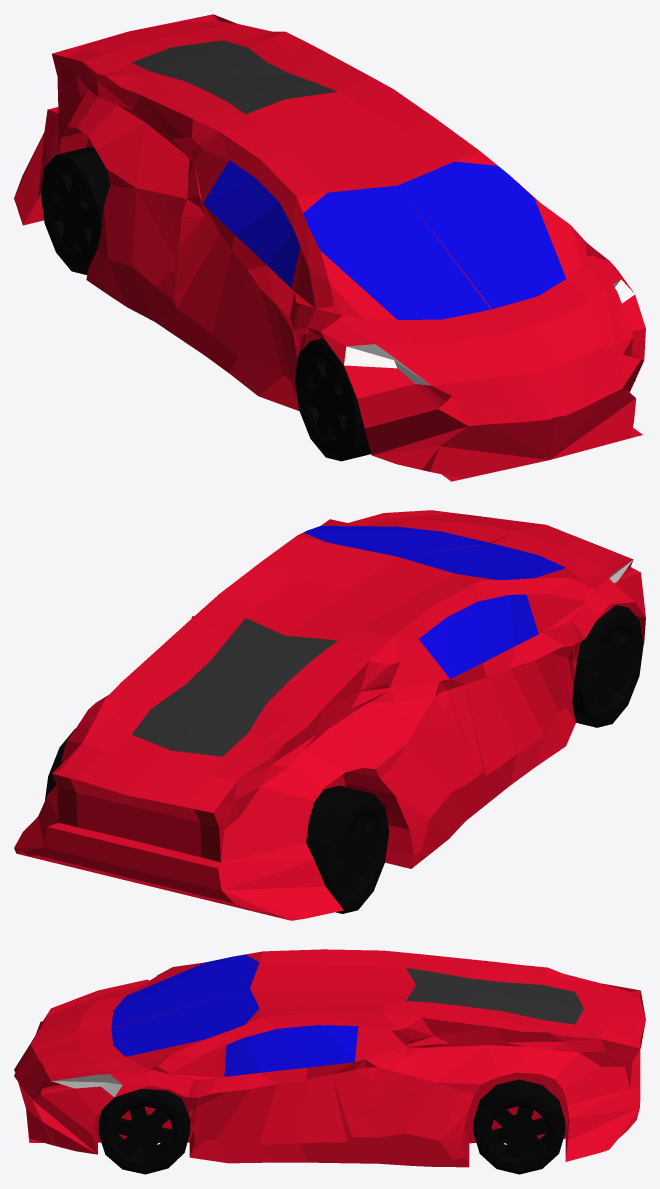
The model's file is Aventador.glb.
3 views of the same model, one above another, from view 1: azimuth 30°, elevation 25°; view 2: azimuth 150°, elevation 25°; view 3: azimuth 270°, elevation 25° (orthographic). The views are drawn at different scales.
Visible parts, largest first — view 1: Car, Windscreen, Engine Cover, Rear Offside Wheel, Front Offside Wheel, Side Windows, Front Lights; view 2: Car, Engine Cover, Rear Offside Wheel, Windscreen, Front Offside Wheel, Side Windows, Rear Lights; view 3: Car, Windscreen, Rear Nearside Wheel, Front Nearside Wheel, Engine Cover, Side Windows, Front Lights.
Part boxes in pixels (<box>): Car: <box>14,14,645,481</box>; Windscreen: <box>303,161,566,319</box>; Engine Cover: <box>132,40,337,114</box>; Rear Offside Wheel: <box>40,146,110,274</box>; Front Offside Wheel: <box>295,338,371,461</box>; Side Windows: <box>203,160,300,287</box>; Front Lights: <box>344,279,634,385</box>; Car: <box>14,510,645,920</box>; Engine Cover: <box>131,618,337,756</box>; Rear Offside Wheel: <box>306,785,389,913</box>; Windscreen: <box>303,526,565,580</box>; Front Offside Wheel: <box>572,604,643,727</box>; Side Windows: <box>419,594,538,678</box>; Rear Lights: <box>52,774,220,862</box>; Car: <box>14,949,645,1167</box>; Windscreen: <box>111,954,259,1056</box>; Rear Nearside Wheel: <box>473,1079,565,1174</box>; Front Nearside Wheel: <box>98,1089,190,1174</box>; Engine Cover: <box>406,968,583,1024</box>; Side Windows: <box>224,1025,358,1076</box>; Front Lights: <box>51,1074,122,1096</box>.
Bounding box in the file's own units: 4.02 × 2.3 × 9.15.
